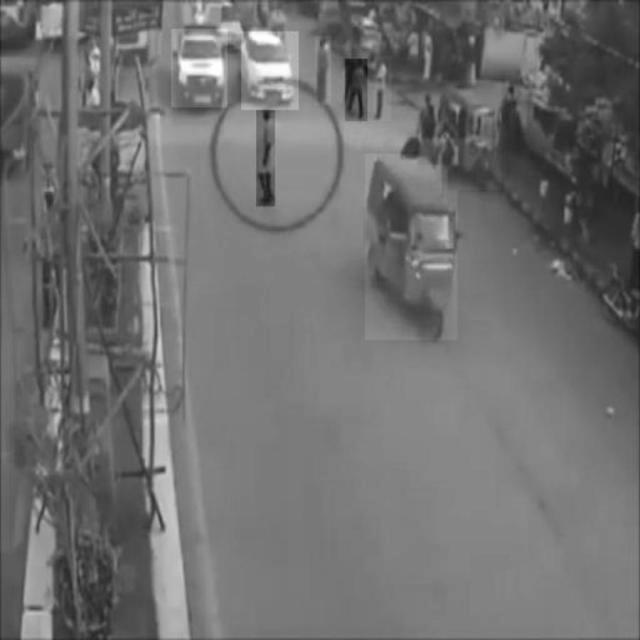person: (257, 104, 275, 206), (418, 92, 443, 165), (346, 60, 368, 122), (315, 36, 331, 104), (375, 57, 392, 121)
vehicle: (365, 154, 457, 340), (442, 80, 502, 191), (242, 32, 299, 110), (171, 30, 227, 108)
